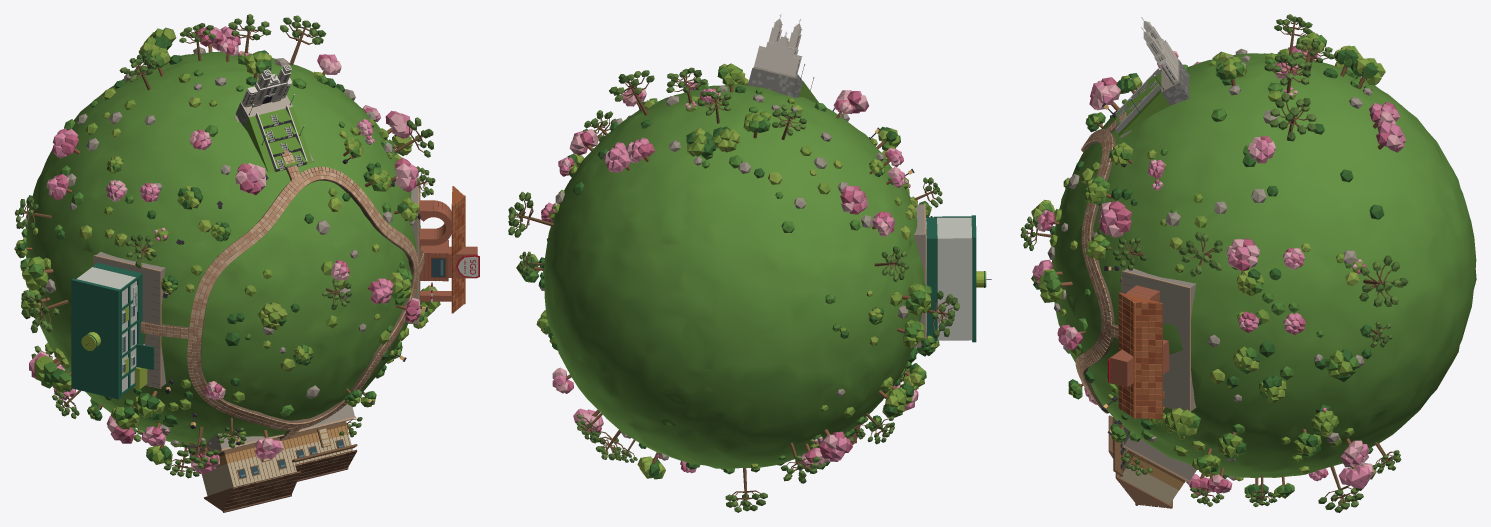
Rendered from sao-bento-planet.glb.
3 renders of one model, left to right at view 1: azimuth 30°, elevation 25°; view 2: azimuth 150°, elevation 25°; view 3: azimuth 270°, elevation 25°, orthographic. The views are drawn at different scales.
Visible parts, largest first — view 1: planet-terrain, planet-vegetation, landmark-univille, landmark-pauli, landmark-sgd, landmark-church; view 2: planet-terrain, planet-vegetation, landmark-univille, landmark-church; view 3: planet-terrain, planet-vegetation, landmark-sgd, landmark-pauli, landmark-church.
Part boxes in pixels (x1,y1,x2,y2): planet-terrain: [25, 47, 427, 445]; planet-vegetation: [14, 14, 440, 478]; landmark-univille: [71, 252, 166, 399]; landmark-pauli: [188, 404, 357, 512]; landmark-sgd: [408, 177, 479, 324]; landmark-church: [234, 62, 313, 173]; planet-terrain: [538, 83, 932, 468]; planet-vegetation: [508, 63, 959, 512]; landmark-univille: [914, 203, 991, 347]; landmark-church: [747, 14, 818, 102]; planet-terrain: [1047, 48, 1476, 480]; planet-vegetation: [1020, 14, 1408, 512]; landmark-sgd: [1108, 268, 1196, 419]; landmark-pauli: [1108, 415, 1196, 508]; landmark-church: [1115, 17, 1189, 137].
Bounding box in the file's own units: 14.79 × 15.06 × 13.45.
